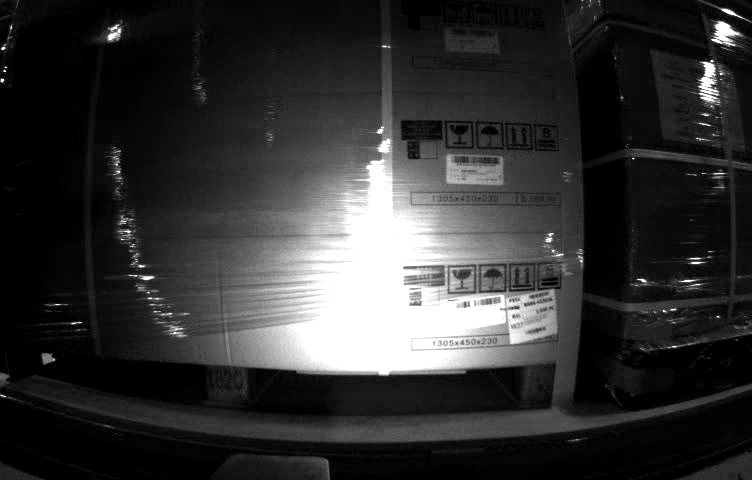True Barcode: (505, 286, 560, 345)
